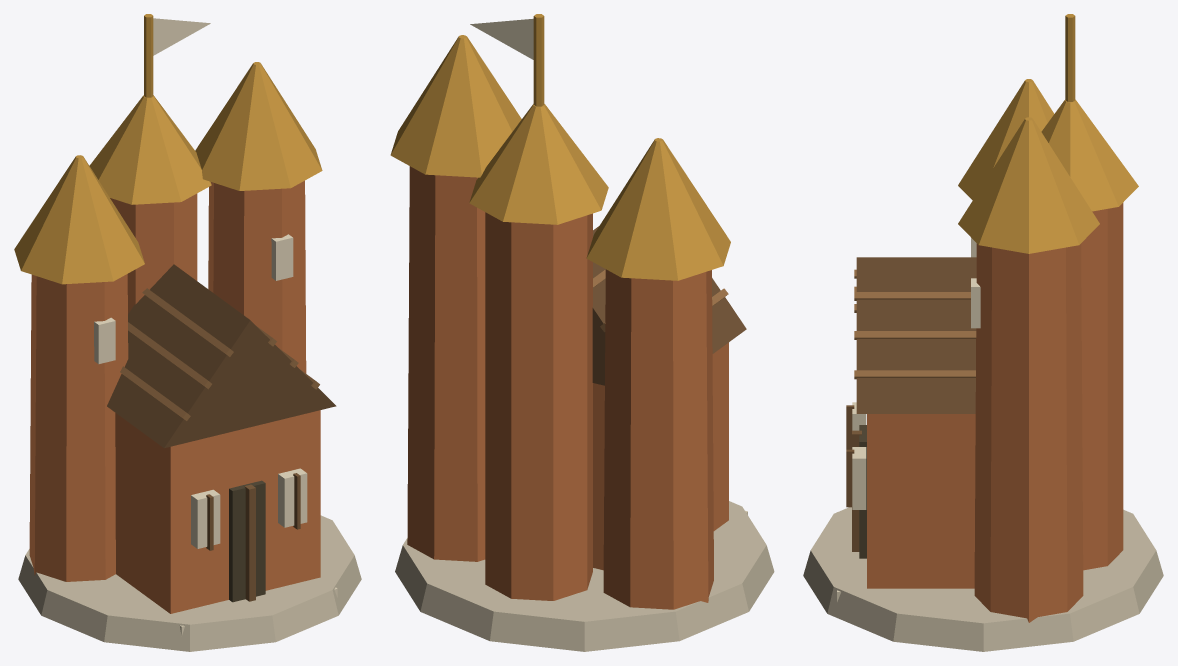
The model's file is building-metropolis.glb.
3 renders of one model, left to right at view 1: azimuth 30°, elevation 25°; view 2: azimuth 150°, elevation 25°; view 3: azimuth 270°, elevation 25°, orthographic. The views are drawn at different scales.
Parts seen in each view (by area): view 1: building-metropolis.001, building-metropolis.007, building-metropolis.005, building-metropolis, building-metropolis.004, building-metropolis.002, building-metropolis.006, building-metropolis.003; view 2: building-metropolis.001, building-metropolis.007, building-metropolis, building-metropolis.005, building-metropolis.004; view 3: building-metropolis.001, building-metropolis.007, building-metropolis, building-metropolis.005, building-metropolis.006, building-metropolis.004, building-metropolis.003, building-metropolis.002.
Boxes of the visible parts, x1,y1,x2,y2 form: building-metropolis.001: (29, 180, 320, 613); building-metropolis.007: (14, 14, 322, 284); building-metropolis.005: (107, 264, 336, 448); building-metropolis: (18, 515, 361, 651); building-metropolis.004: (94, 18, 337, 635); building-metropolis.002: (229, 480, 265, 602); building-metropolis.006: (120, 288, 319, 420); building-metropolis.003: (206, 473, 300, 601); building-metropolis.001: (407, 166, 728, 609); building-metropolis.007: (390, 14, 730, 280); building-metropolis: (395, 501, 774, 651); building-metropolis.005: (592, 226, 746, 385); building-metropolis.004: (470, 18, 747, 514); building-metropolis.001: (867, 203, 1123, 622); building-metropolis.007: (958, 14, 1138, 253); building-metropolis: (803, 507, 1163, 651); building-metropolis.005: (856, 257, 976, 413); building-metropolis.006: (854, 269, 976, 379); building-metropolis.004: (837, 238, 980, 601); building-metropolis.003: (846, 405, 861, 551); building-metropolis.002: (859, 425, 866, 558).
Size of the model in its own units: 0.436 by 0.747 by 0.436.
